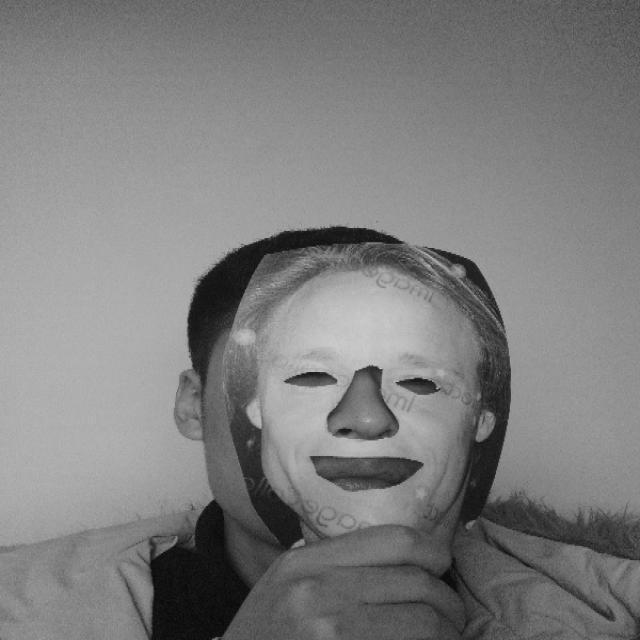real: (218, 244, 516, 556)
